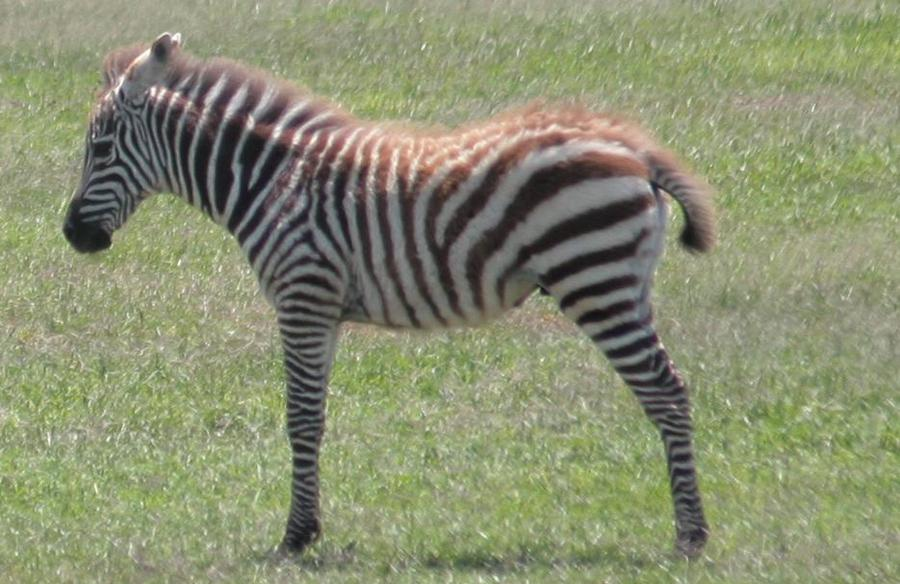zebra_plains: (181, 42, 743, 402)
